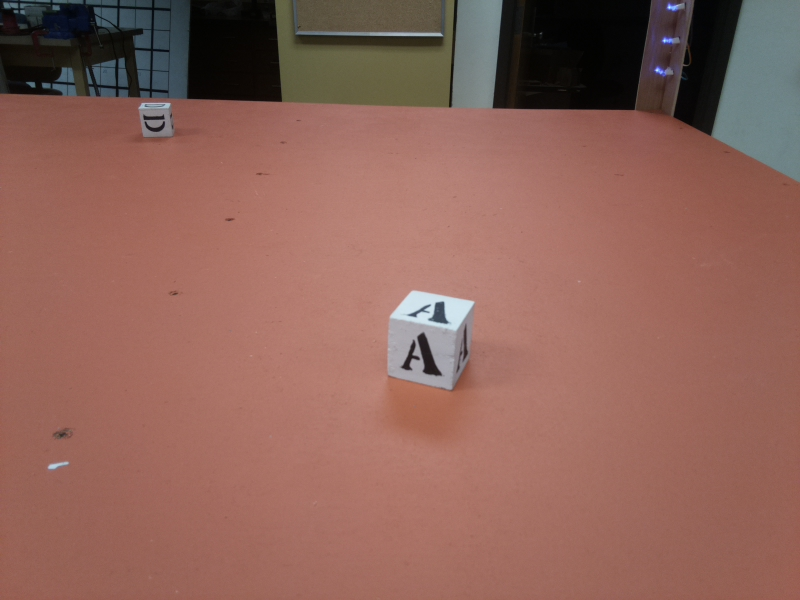blockA: (384, 290, 474, 395)
blockD: (140, 103, 173, 141)
corner: (633, 1, 695, 123)
